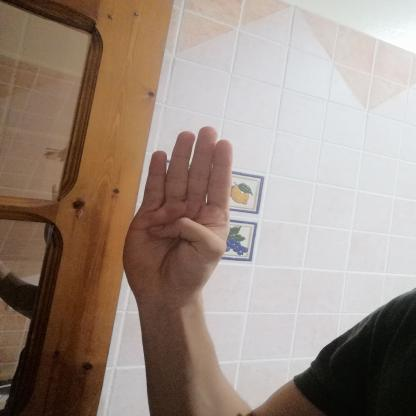KAAF: (108, 116, 243, 314)
